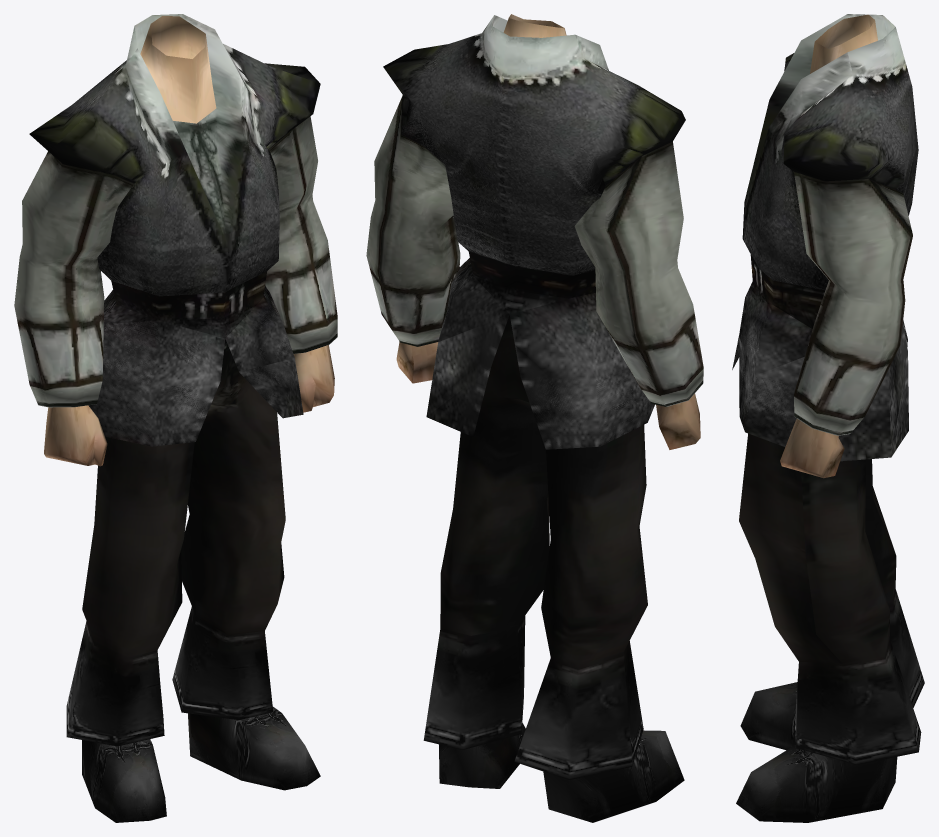
The model's file is ARMOR_KM_VLK_09.glb.
The picture shows the model from 3 angles, left to right: view 1: azimuth 30°, elevation 25°; view 2: azimuth 150°, elevation 25°; view 3: azimuth 270°, elevation 25°; orthographic projection. The views are drawn at different scales.
Parts seen in each view (by area): view 1: ARMOR_KM_VLK_09; view 2: ARMOR_KM_VLK_09; view 3: ARMOR_KM_VLK_09.
Boxes of the visible parts, x1,y1,x2,y2 form: ARMOR_KM_VLK_09: (14,14,337,822); ARMOR_KM_VLK_09: (366,14,703,822); ARMOR_KM_VLK_09: (732,14,924,822).
Size of the model in its own units: 0.6986 by 1.69 by 0.3904.
2 materials, 2 textured.
